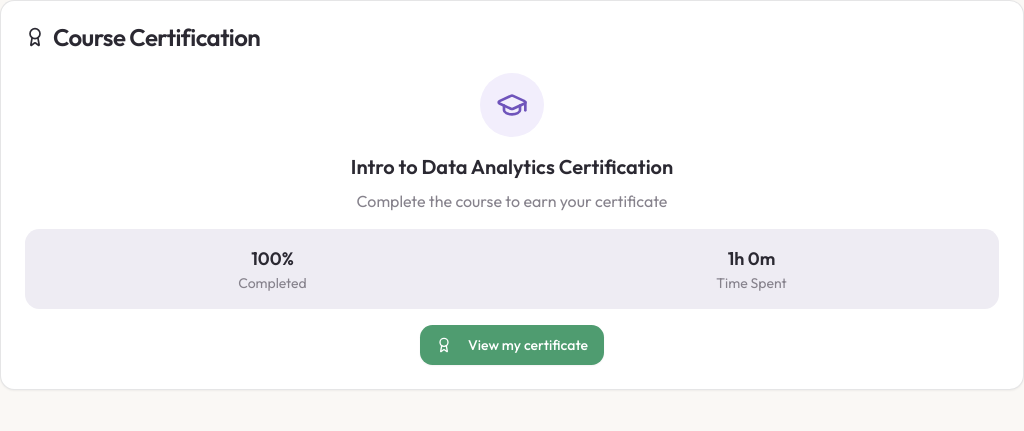
CertificationSystem (issue mode) — check_course_completion RPC › shows the issued certificate after a successful refresh
The width and height of the screenshot is (1024, 431).
Click the button "View my certificate".
click(512, 345)  # box [420, 325, 604, 365]
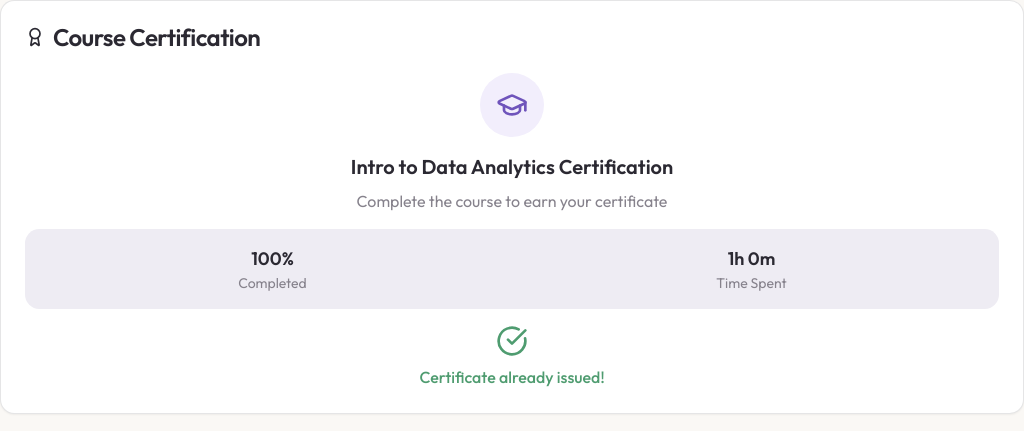
Result: the text "Certificate already issued!" is shown at [419, 367, 605, 387]
